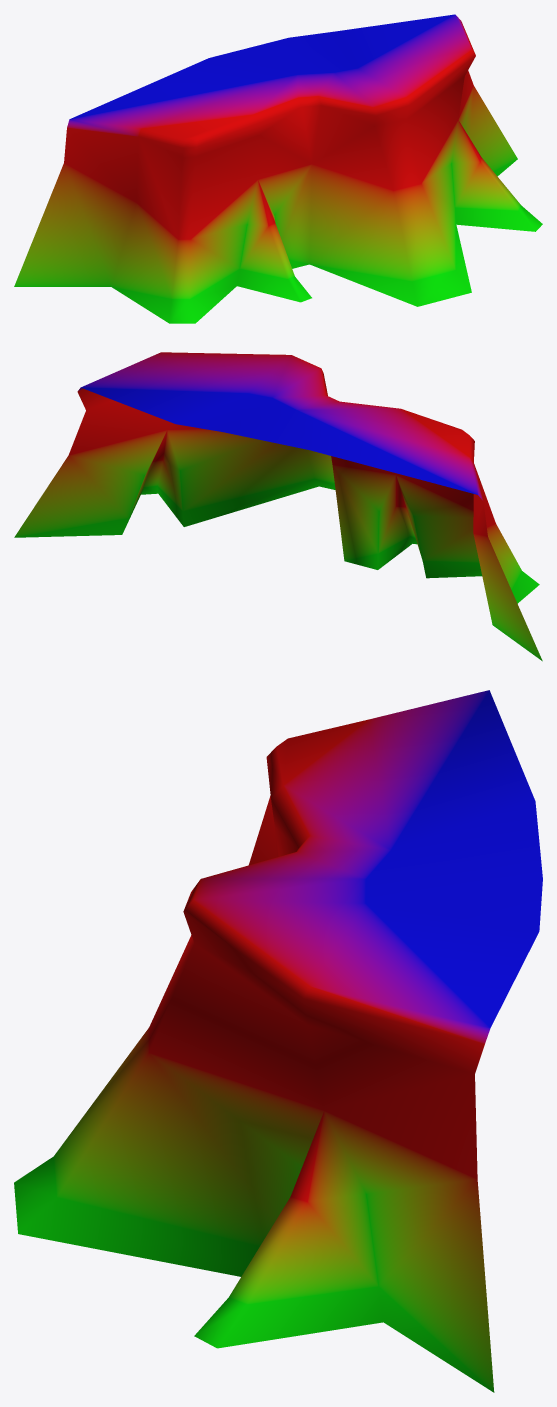
Rendered from M_Rock_Cliff_B.FBX.
3 views of the same model, one above another, from view 1: azimuth 30°, elevation 25°; view 2: azimuth 150°, elevation 25°; view 3: azimuth 270°, elevation 25° (orthographic). The views are drawn at different scales.
Visible parts, largest first — view 1: Rock_Cliff_B; view 2: Rock_Cliff_B; view 3: Rock_Cliff_B.
Part boxes in pixels (left/top/right/bottom): Rock_Cliff_B: left=14, top=14, right=542, bottom=323; Rock_Cliff_B: left=14, top=352, right=542, bottom=661; Rock_Cliff_B: left=14, top=690, right=542, bottom=1392.
Size of the model in its own units: 1225 by 386 by 580.
